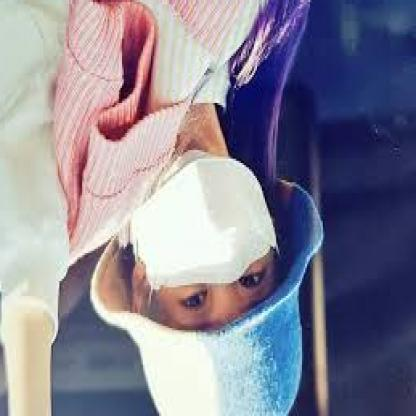hat: (90, 170, 331, 416)
